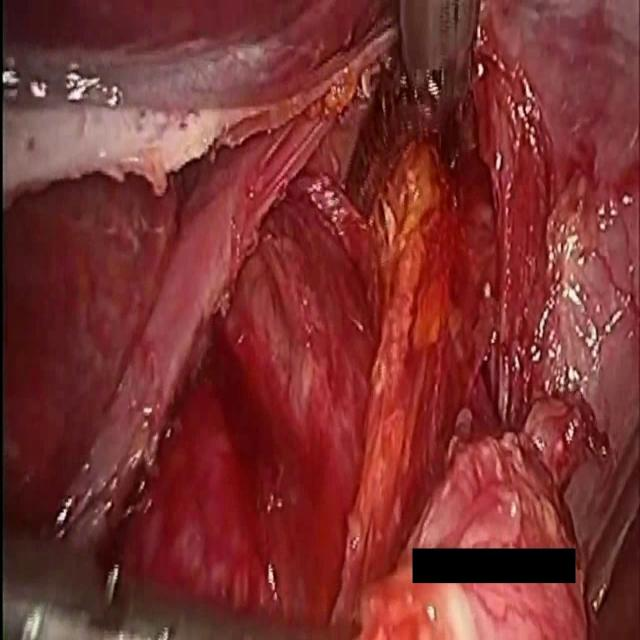surgical-area: (2, 0, 640, 639)
